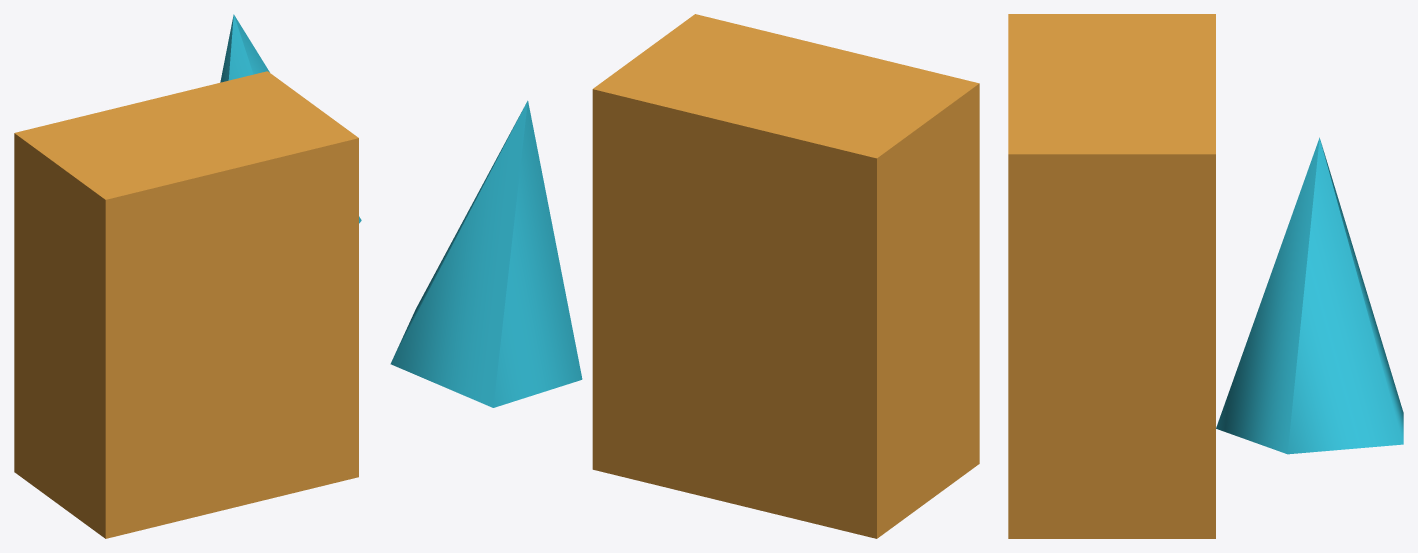
Rendered from frame-04.glb.
3 views of the same model, side by side, from view 1: azimuth 30°, elevation 25°; view 2: azimuth 150°, elevation 25°; view 3: azimuth 270°, elevation 25° (orthographic). The views are drawn at different scales.
Bounding box in the file's own units: 0.5266 × 0.4776 × 0.419.
